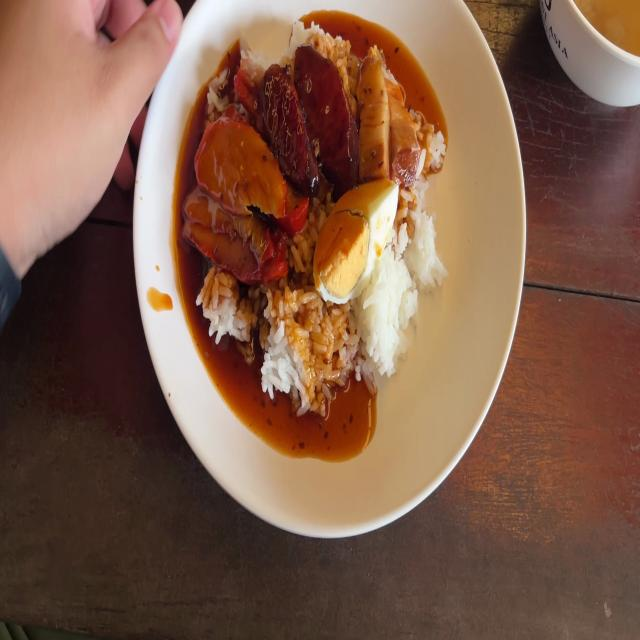01boiled_egg: (314, 182, 403, 299)
01chainese_sausage: (260, 41, 357, 191), (257, 64, 314, 196), (299, 47, 352, 175)
01crispy_pork: (358, 48, 417, 177), (354, 49, 390, 165), (387, 70, 414, 172)
01red_pork: (186, 116, 300, 284), (201, 112, 289, 212), (194, 205, 280, 273)
01red_pork_and_crispy_pork: (188, 21, 448, 408)
01rice: (262, 286, 357, 407), (358, 244, 423, 361), (207, 278, 255, 347), (412, 194, 439, 285), (418, 114, 444, 176)
